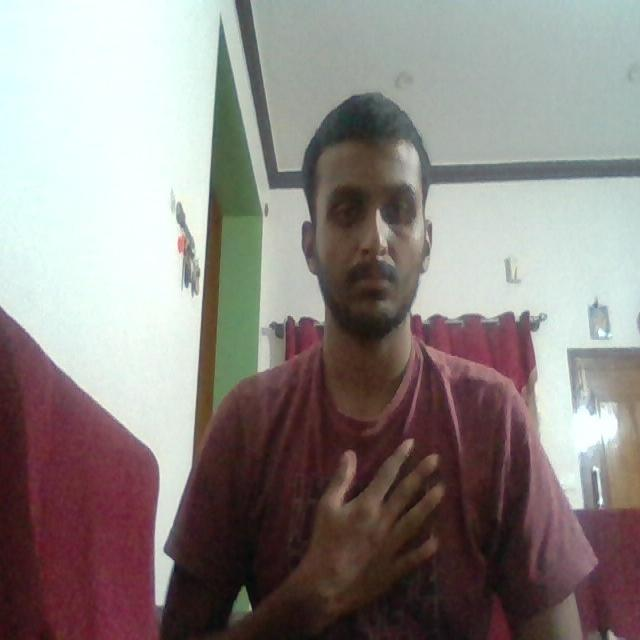please: (283, 431, 472, 611)
